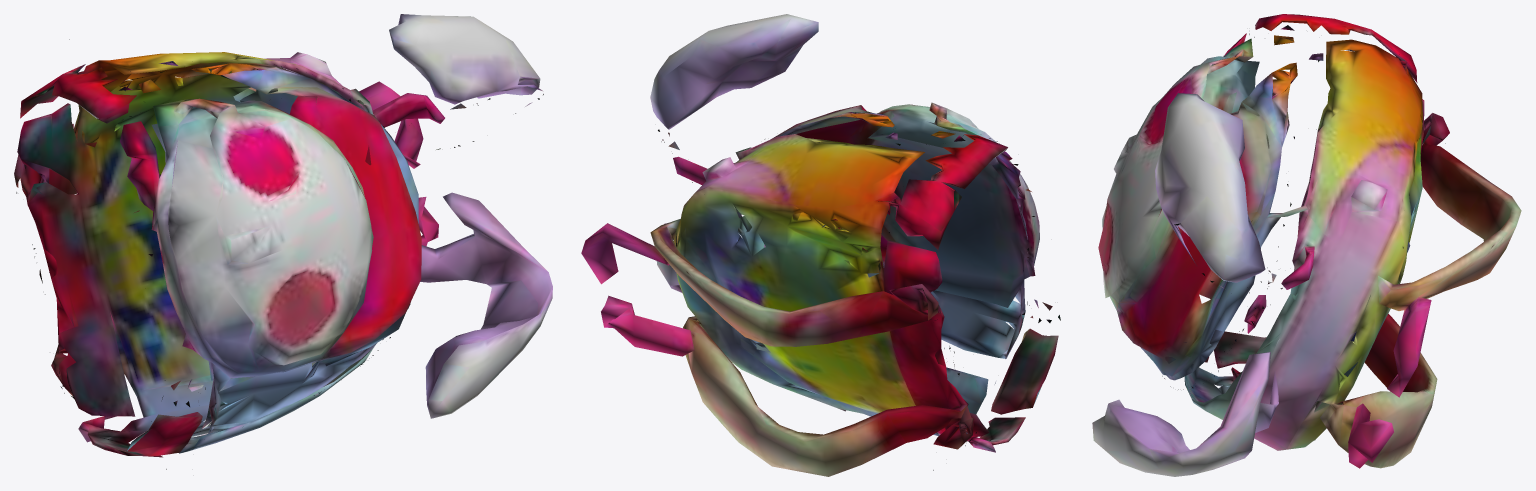
The model's file is back_prp_sac_lapin.glb.
3 views of the same model, side by side, from view 1: azimuth 30°, elevation 25°; view 2: azimuth 150°, elevation 25°; view 3: azimuth 270°, elevation 25° (orthographic). The views are drawn at different scales.
Visible parts, largest first — view 1: back_prp_sac_lapin; view 2: back_prp_sac_lapin; view 3: back_prp_sac_lapin.
Boxes of the visible parts, x1=… form: back_prp_sac_lapin: x1=14, y1=14, x2=552, y2=469; back_prp_sac_lapin: x1=581, y1=14, x2=1060, y2=476; back_prp_sac_lapin: x1=1092, y1=14, x2=1521, y2=476.
Size of the model in its own units: 0.6371 by 0.6175 by 0.5662.
Materials: 1 (1 with a texture image).
